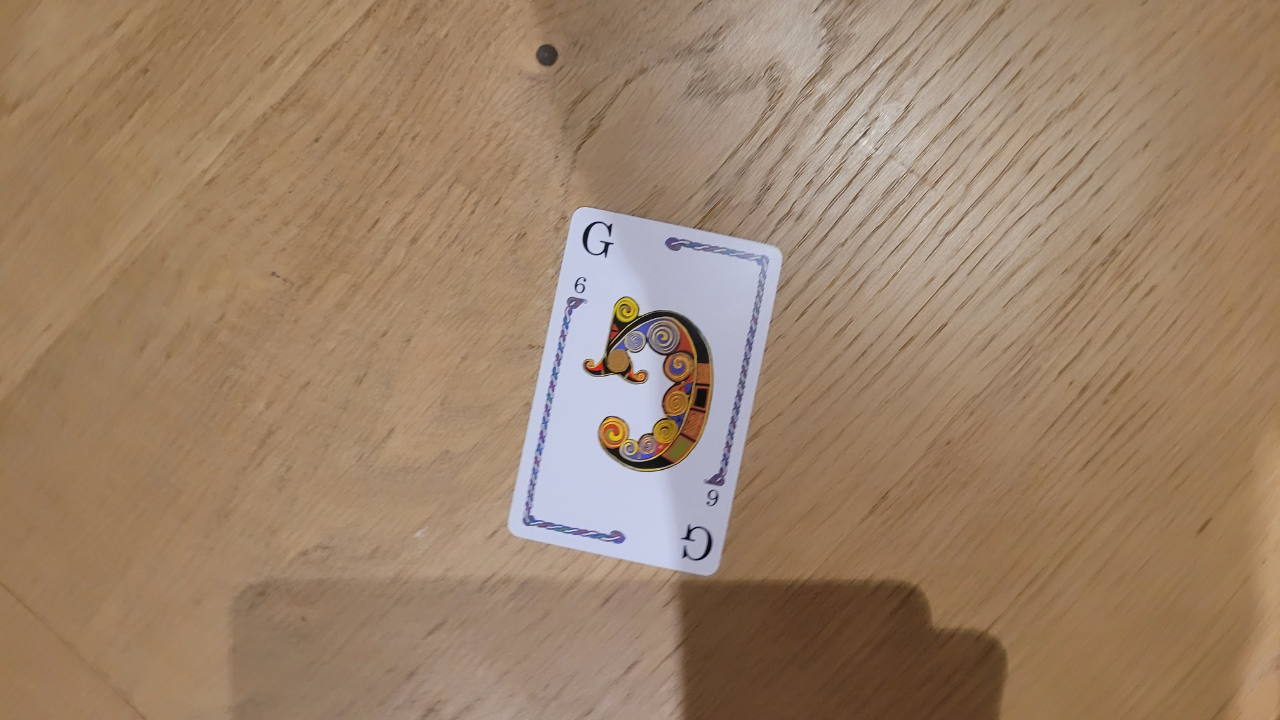quiddler_card: (498, 186, 789, 599)
